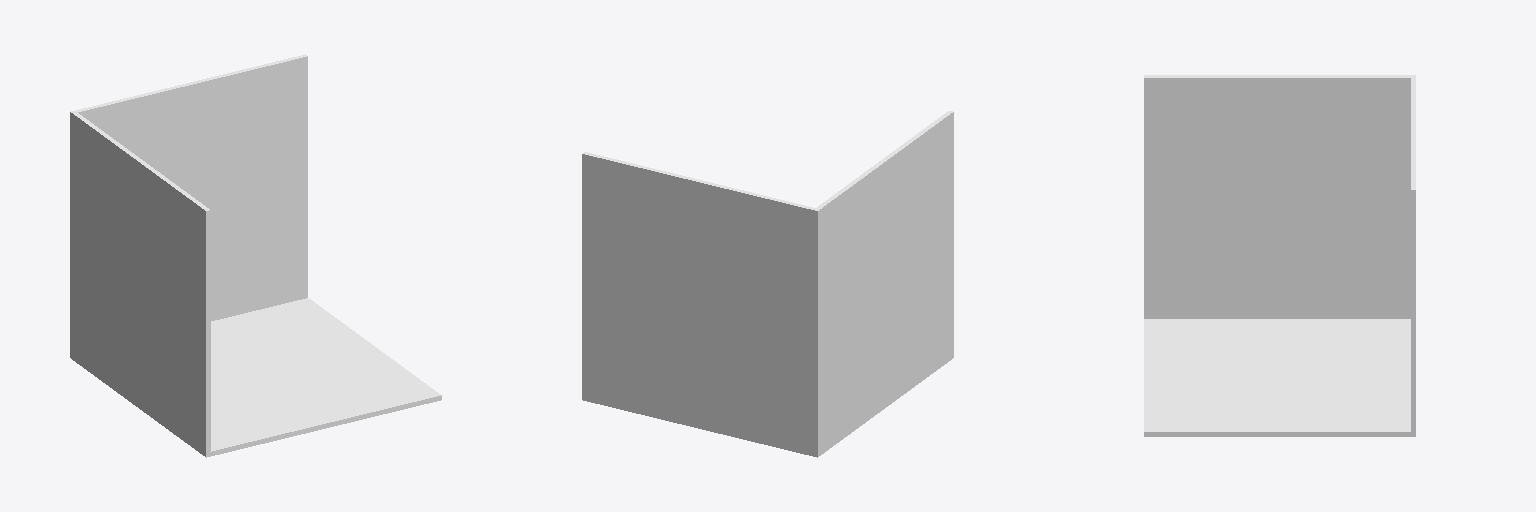
Rendered from TileTurn.obj.
3 views of the same model, side by side, from view 1: azimuth 30°, elevation 25°; view 2: azimuth 150°, elevation 25°; view 3: azimuth 270°, elevation 25° (orthographic).
Parts seen in each view (by area): view 1: object 1; view 2: object 1; view 3: object 1.
Part boxes in pixels (x1,y1,x2,y2): object 1: (70,54,441,457); object 1: (582,111,953,457); object 1: (1144,75,1415,436).
Bounding box in the file's own units: 5 × 5 × 5.